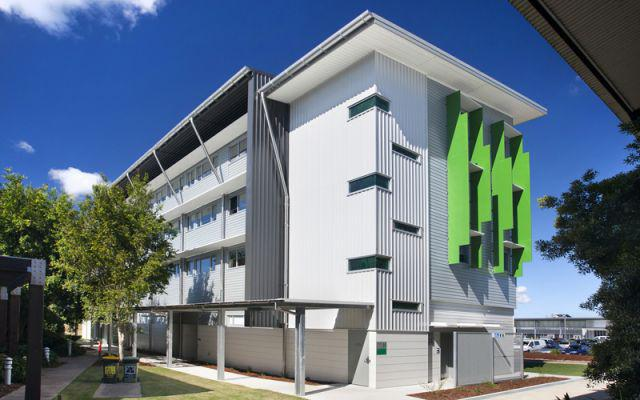affected: (98, 49, 540, 393)
